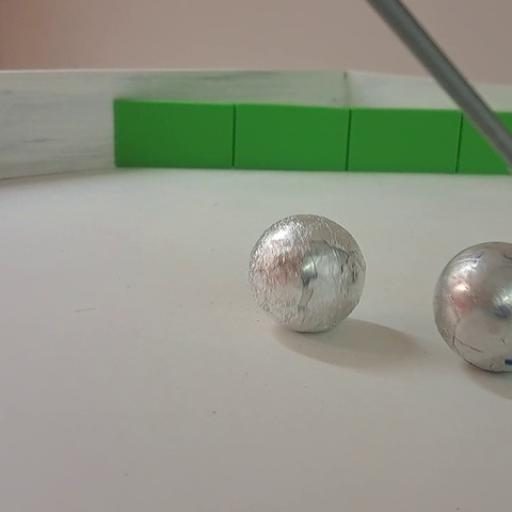alive: (248, 214, 366, 332), (431, 242, 511, 372)
